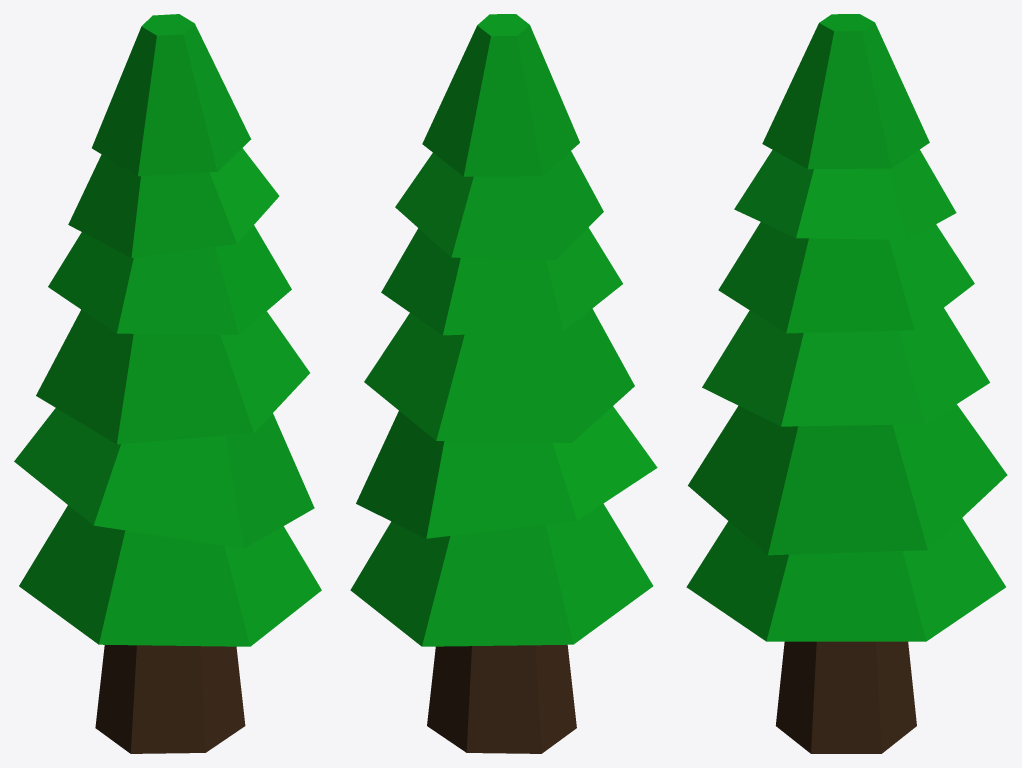
The model's file is Tree1.fbx.
The picture shows the model from 3 angles, left to right: view 1: azimuth 30°, elevation 25°; view 2: azimuth 150°, elevation 25°; view 3: azimuth 270°, elevation 25°; orthographic projection.
Visible parts, largest first — view 1: Tree1; view 2: Tree1; view 3: Tree1.
Part boxes in pixels (bbox=[...]): Tree1: bbox=[14, 14, 321, 753]; Tree1: bbox=[350, 14, 657, 753]; Tree1: bbox=[686, 14, 1007, 753].
Size of the model in its own units: 4.54 by 13.4 by 5.54.
